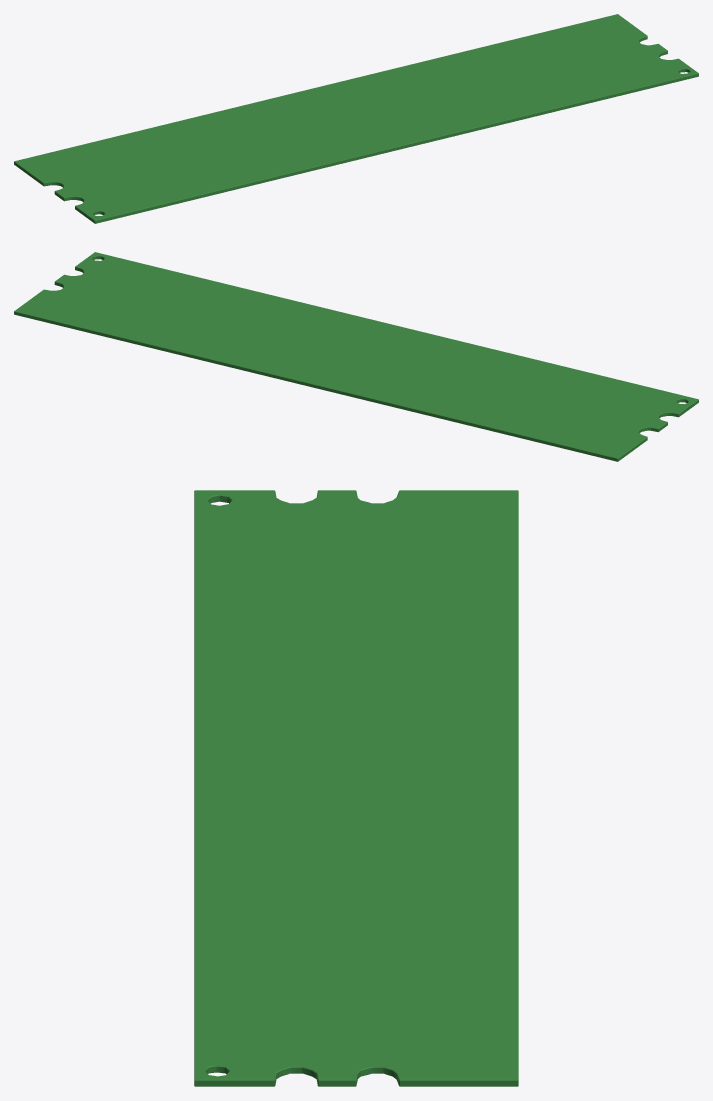
The model's file is DDR_RAM_SIMPLE.fbx.
3 views of the same model, one above another, from view 1: azimuth 30°, elevation 25°; view 2: azimuth 150°, elevation 25°; view 3: azimuth 270°, elevation 25° (orthographic). The views are drawn at different scales.
Visible parts, largest first — view 1: RAM; view 2: RAM; view 3: RAM.
Part boxes in pixels (x1,y1,x2,y2): RAM: [14, 14, 698, 223]; RAM: [14, 252, 698, 461]; RAM: [194, 490, 518, 1086].
Bounding box in the file's own units: 527 × 2.91 × 123.
